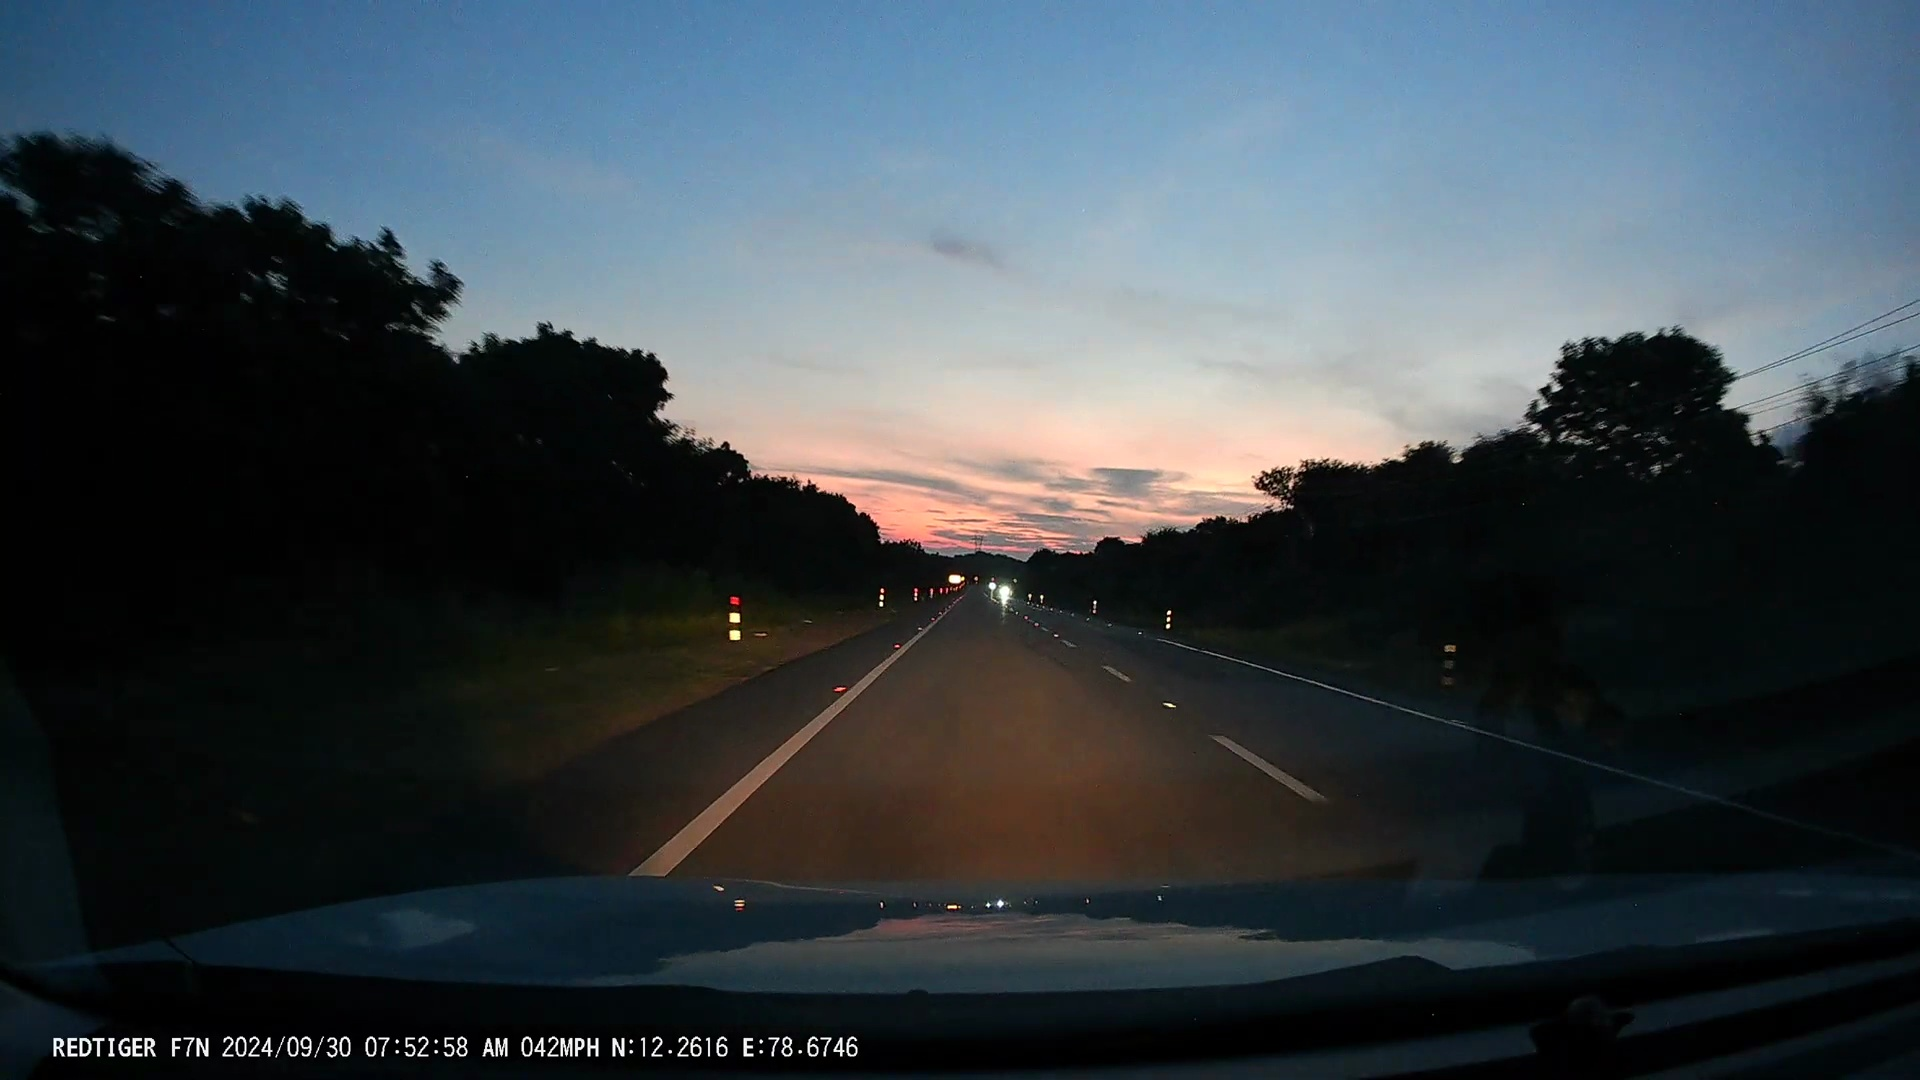headlight: (1000, 585, 1014, 601), (989, 583, 996, 593)
two wheeler: (982, 579, 1021, 607)
